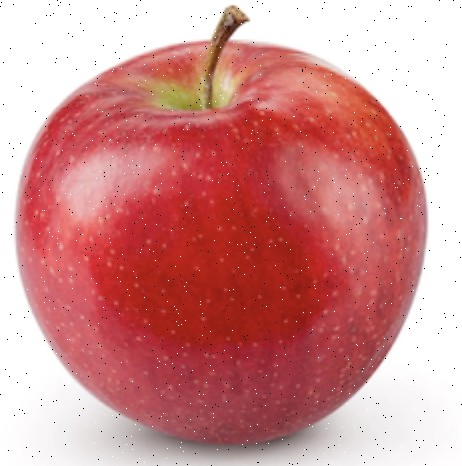fresh_apple: (17, 37, 429, 451)
